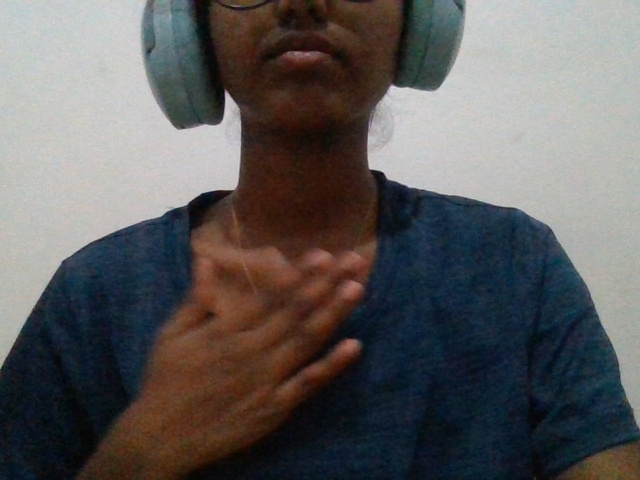Please: (89, 231, 404, 468)
